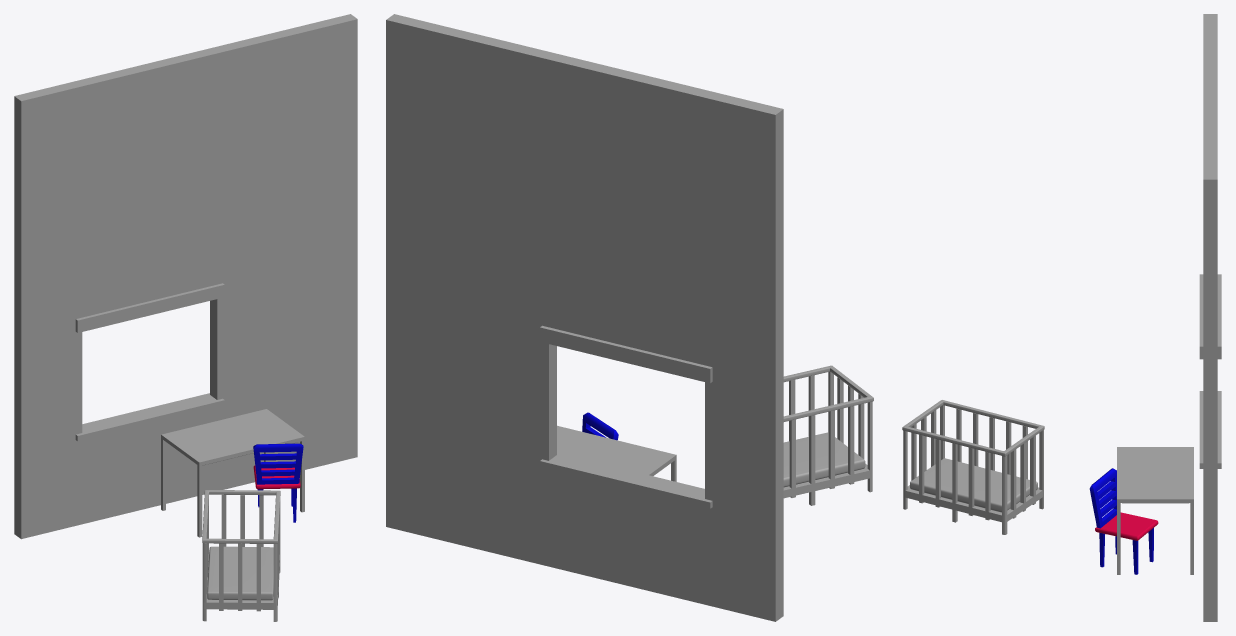
Rendered from Home.fbx.
3 views of the same model, side by side, from view 1: azimuth 30°, elevation 25°; view 2: azimuth 150°, elevation 25°; view 3: azimuth 270°, elevation 25° (orthographic). The views are drawn at different scales.
Visible parts, largest first — view 1: pCube9, Table, crib, mattress, pCube10, Chair, pCube11, crib_top; view 2: pCube9, crib, Table, pCube10, pCube11, mattress, crib_top; view 3: pCube9, crib, Table, Chair, mattress, crib_top, pCube11, pCube10.
Part boxes in pixels (x1,y1,x2,y2): pCube9: [14, 14, 357, 539]; Table: [161, 409, 304, 537]; crib: [202, 494, 280, 621]; mattress: [207, 546, 273, 600]; pCube10: [75, 393, 224, 441]; Chair: [253, 443, 303, 522]; pCube11: [75, 283, 224, 332]; crib_top: [202, 490, 280, 543]; pCube9: [386, 14, 783, 621]; crib: [783, 371, 872, 505]; Table: [557, 425, 676, 481]; pCube10: [540, 453, 712, 508]; pCube11: [540, 325, 712, 383]; mattress: [783, 432, 865, 487]; crib_top: [783, 365, 873, 421]; pCube9: [1203, 14, 1217, 621]; crib: [903, 405, 1043, 534]; Table: [1117, 447, 1193, 574]; Chair: [1089, 468, 1158, 574]; mattress: [910, 458, 1037, 512]; crib_top: [902, 400, 1044, 456]; pCube11: [1199, 274, 1221, 359]; pCube10: [1199, 391, 1221, 468].
Size of the model in its own units: 778 by 969 by 633.
